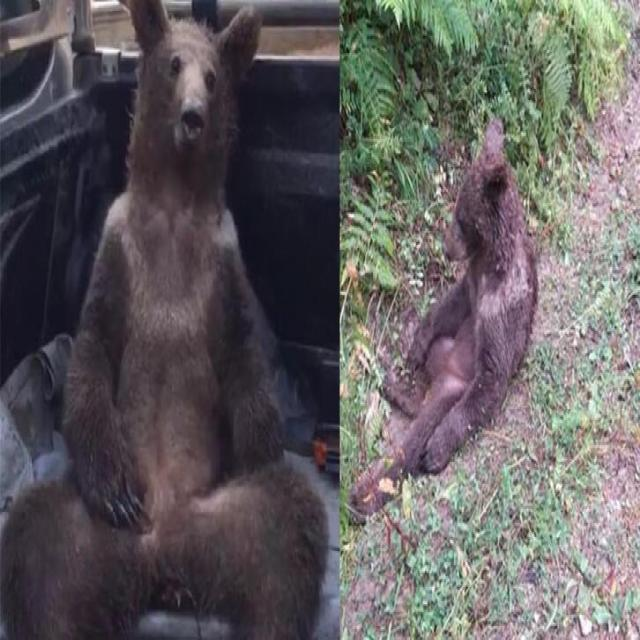Bear: (0, 0, 338, 640), (390, 119, 540, 478)
